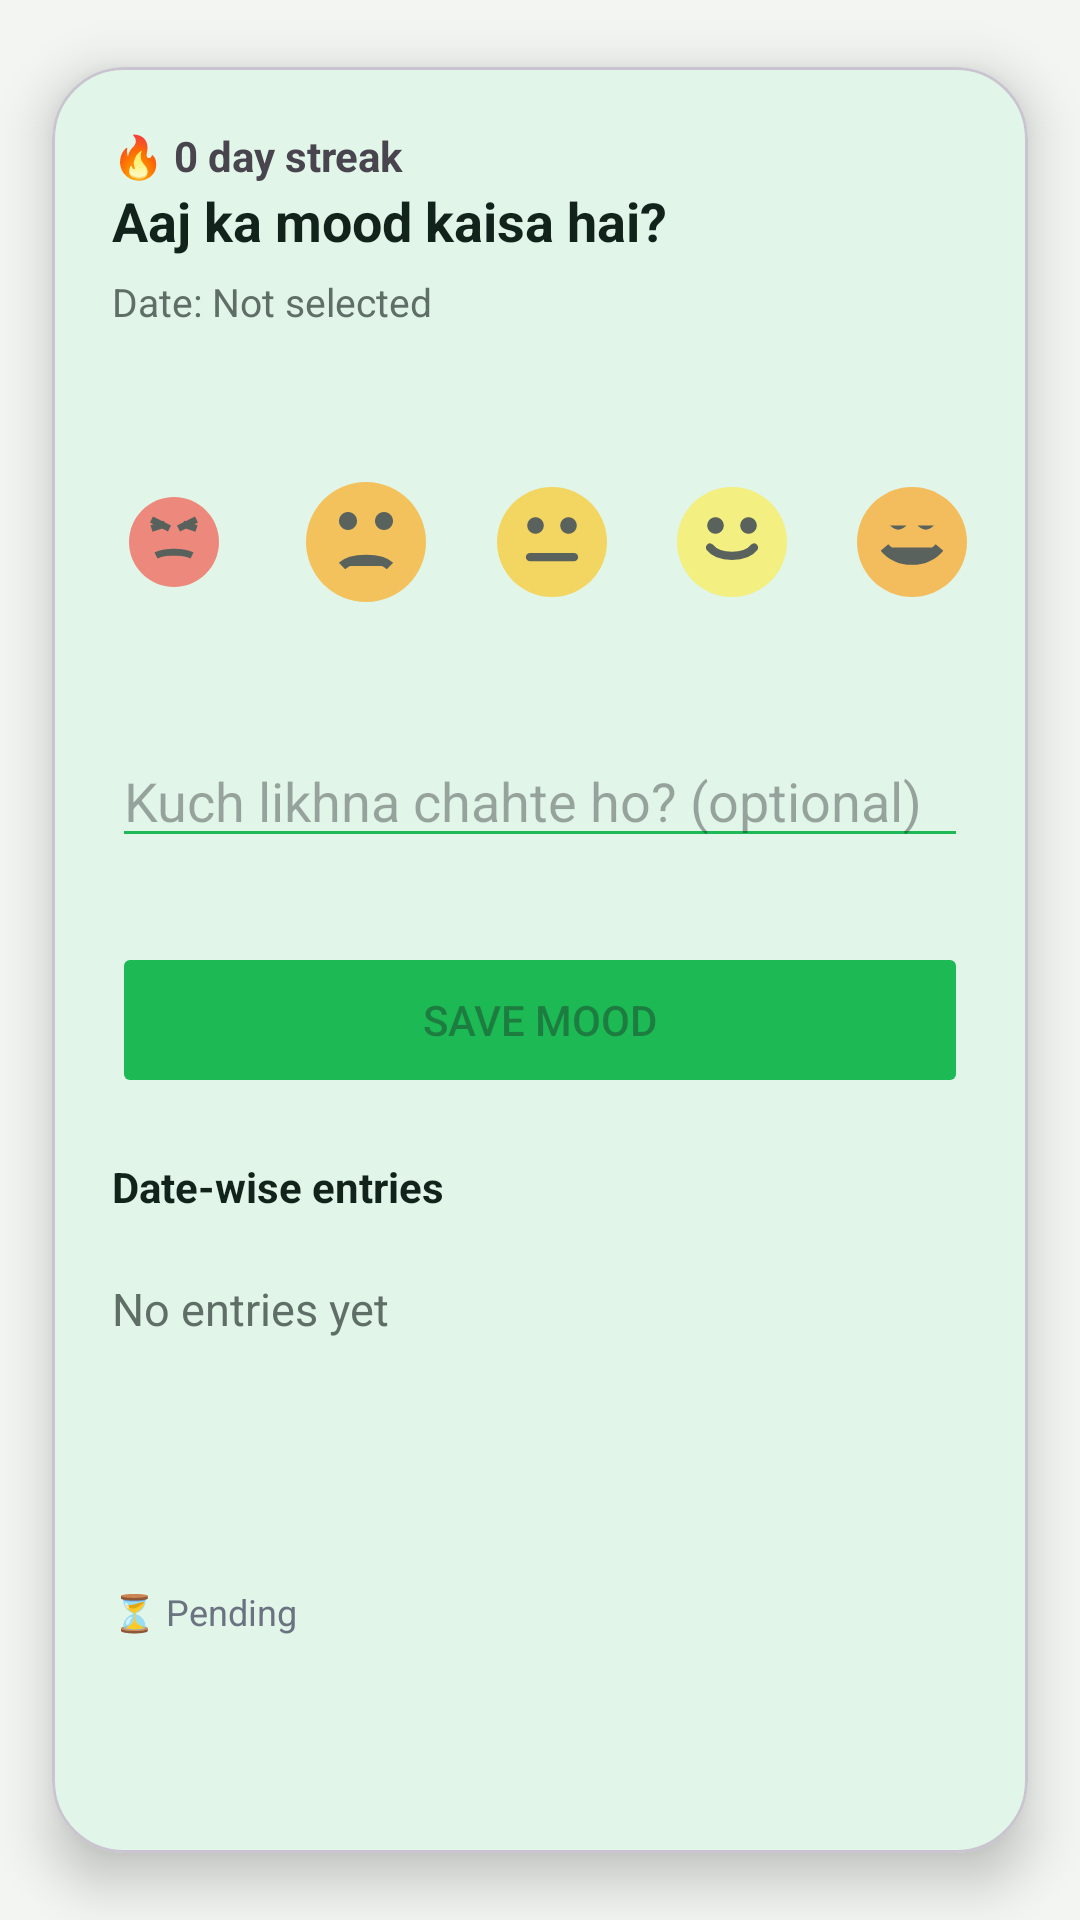

Icons on this 1080 × 1920 Android screen, each with the point to tap as [x,y]:
mood angry: [174,542]
mood happy: [732,542]
mood neutral: [552,542]
mood sad: [366,542]
mood very happy: [912,542]
